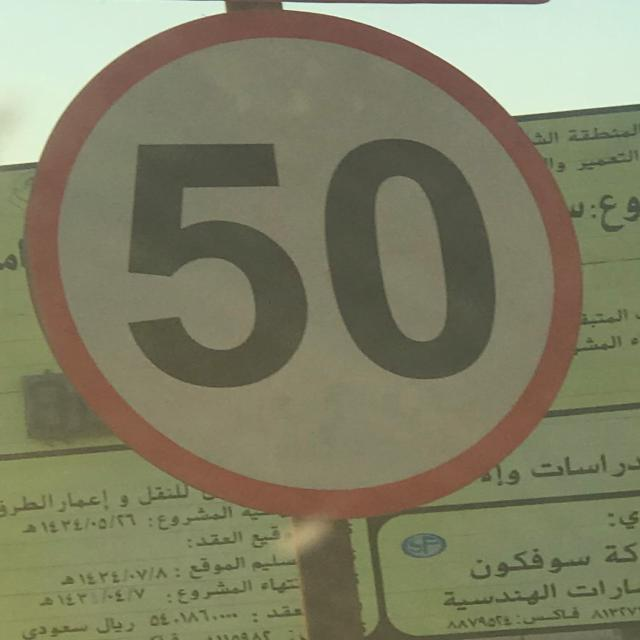Limite-50: (22, 7, 585, 523)
